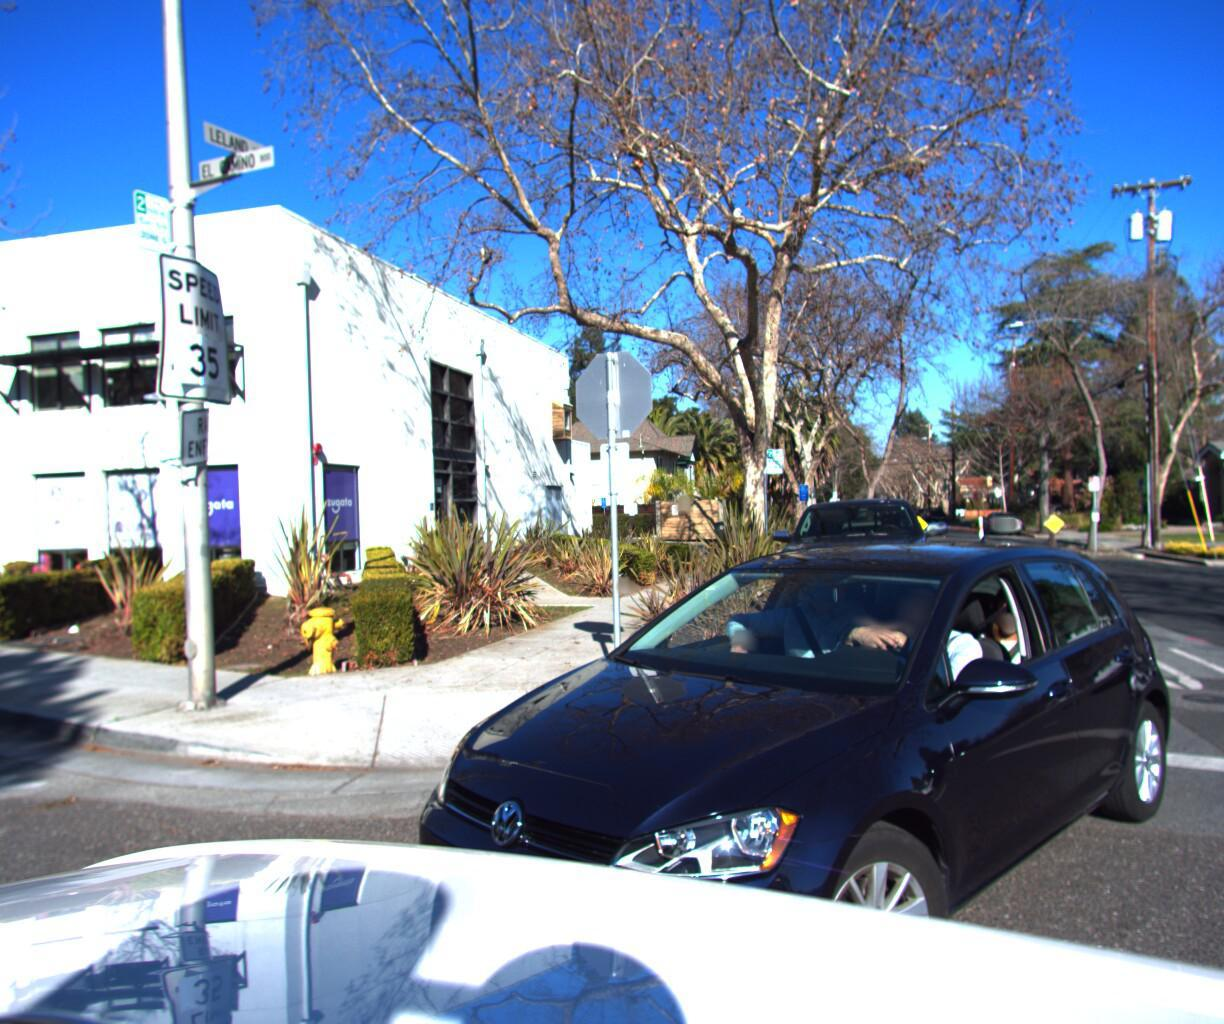car: (295, 500, 1210, 1024), (753, 482, 951, 650), (975, 504, 1027, 532)
